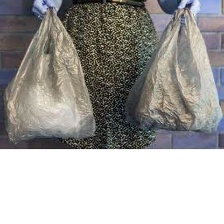plastic_bag: (1, 1, 100, 145), (123, 0, 223, 138)
